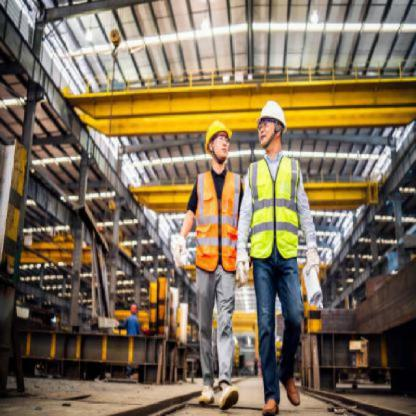person: (235, 96, 331, 407), (169, 113, 247, 413)
vest-helm: (246, 154, 301, 266), (193, 164, 243, 275)
white-helm: (253, 99, 294, 129)
yellow-helm: (199, 115, 236, 150)
